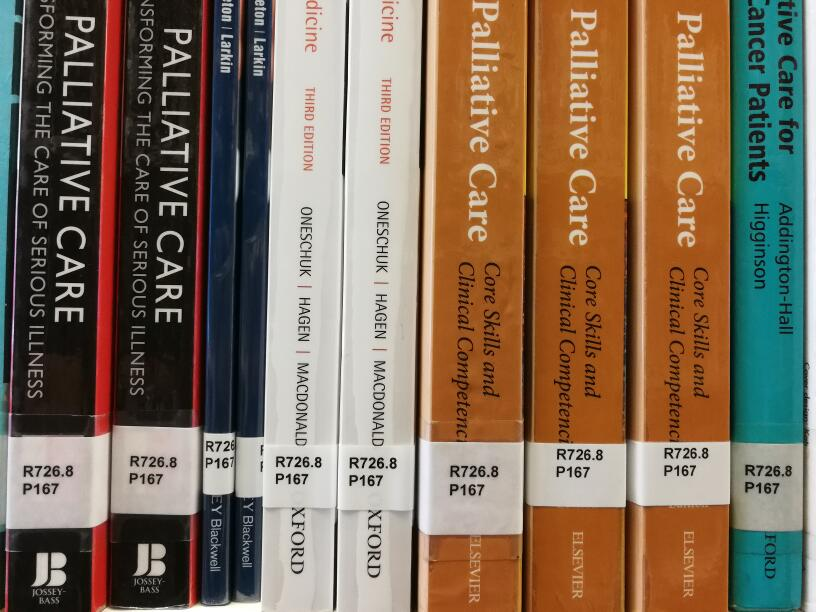booklabel: (22, 464, 76, 497), (347, 455, 397, 488), (449, 464, 499, 497), (126, 454, 179, 485), (742, 463, 792, 495), (273, 454, 322, 486), (555, 447, 604, 478), (662, 447, 709, 478), (204, 439, 235, 472)
